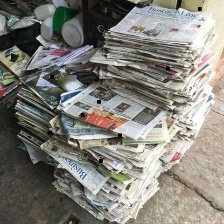news_paper: (40, 76, 175, 224), (9, 38, 109, 173), (100, 0, 217, 111), (157, 65, 216, 173)
